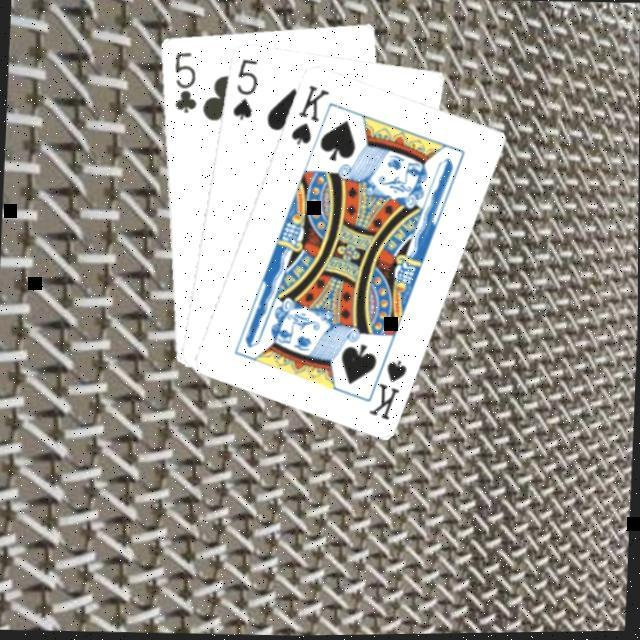5C: (170, 46, 202, 115)
5S: (230, 52, 262, 121)
KS: (363, 343, 412, 422), (288, 78, 334, 147)
